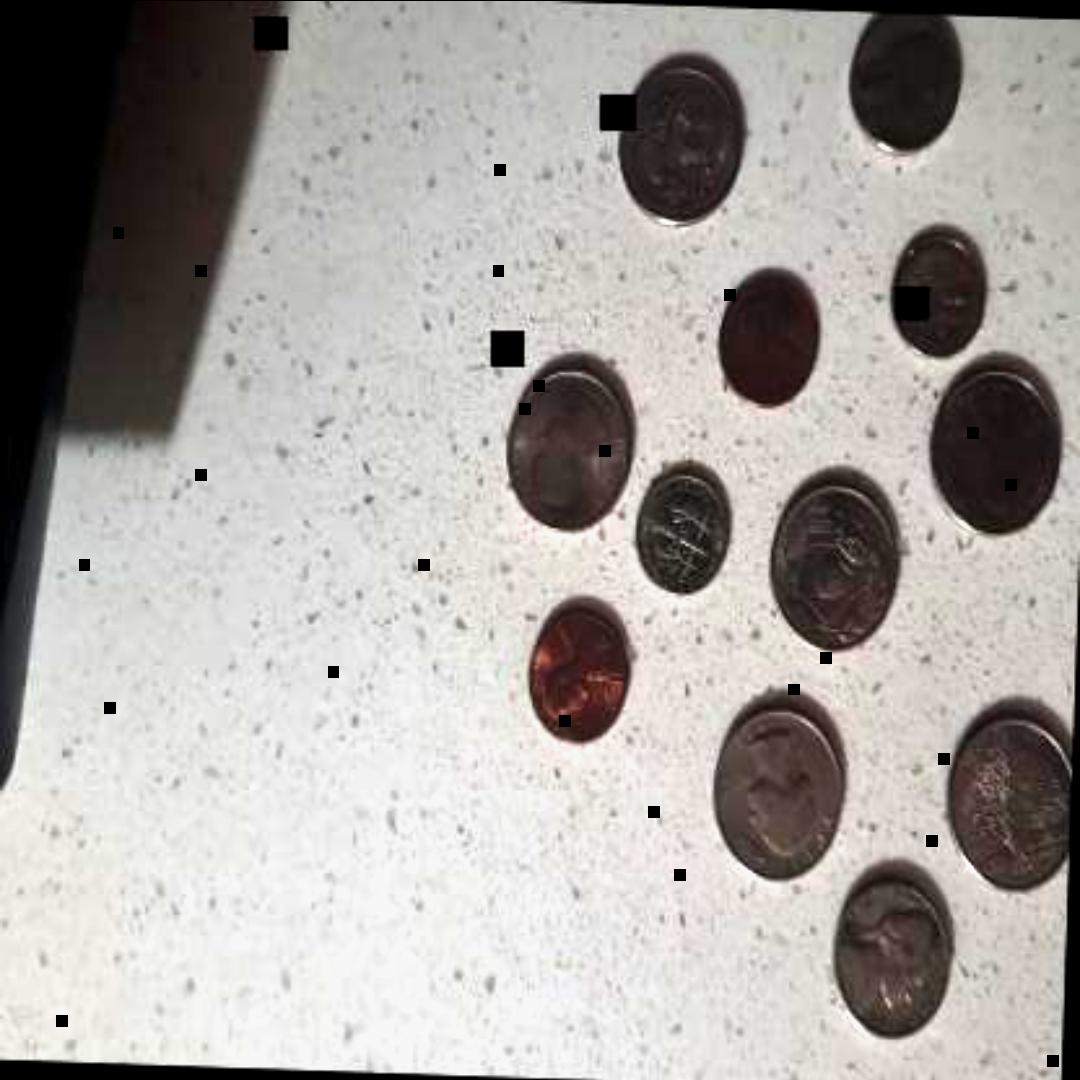Dime: (872, 231, 992, 363), (624, 472, 727, 600)
Nickel: (826, 860, 961, 1042), (837, 11, 966, 166)
Penny: (518, 606, 632, 752), (710, 274, 821, 412)
Quarter: (698, 684, 854, 890), (492, 348, 647, 540), (930, 701, 1074, 903), (609, 50, 751, 244), (922, 362, 1062, 554), (762, 469, 904, 655)
